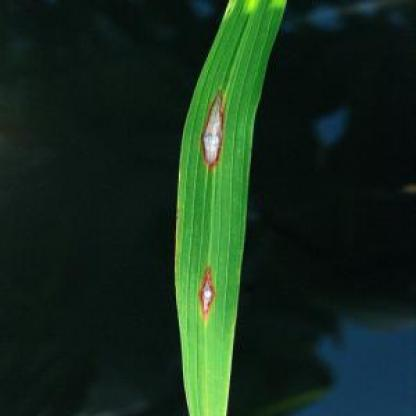Rice blast: (194, 83, 240, 181), (195, 259, 226, 324)
